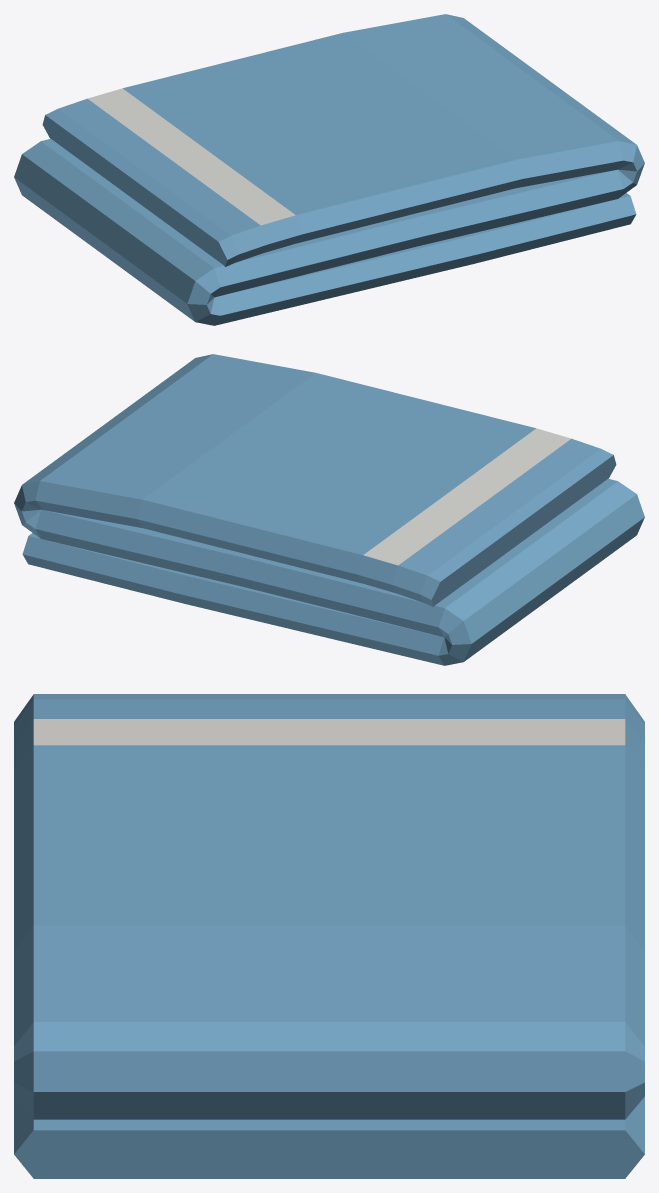
Rendered from tool_cloth.glb.
3 views of the same model, one above another, from view 1: azimuth 30°, elevation 25°; view 2: azimuth 150°, elevation 25°; view 3: azimuth 270°, elevation 25° (orthographic). The views are drawn at different scales.
Visible parts, largest first — view 1: tool_cloth; view 2: tool_cloth; view 3: tool_cloth.
Part boxes in pixels (x1=…): tool_cloth: x1=14, y1=14, x2=644, y2=325; tool_cloth: x1=14, y1=354, x2=644, y2=665; tool_cloth: x1=14, y1=694, x2=644, y2=1178.
Size of the model in its own units: 0.16 by 0.0314 by 0.112.
